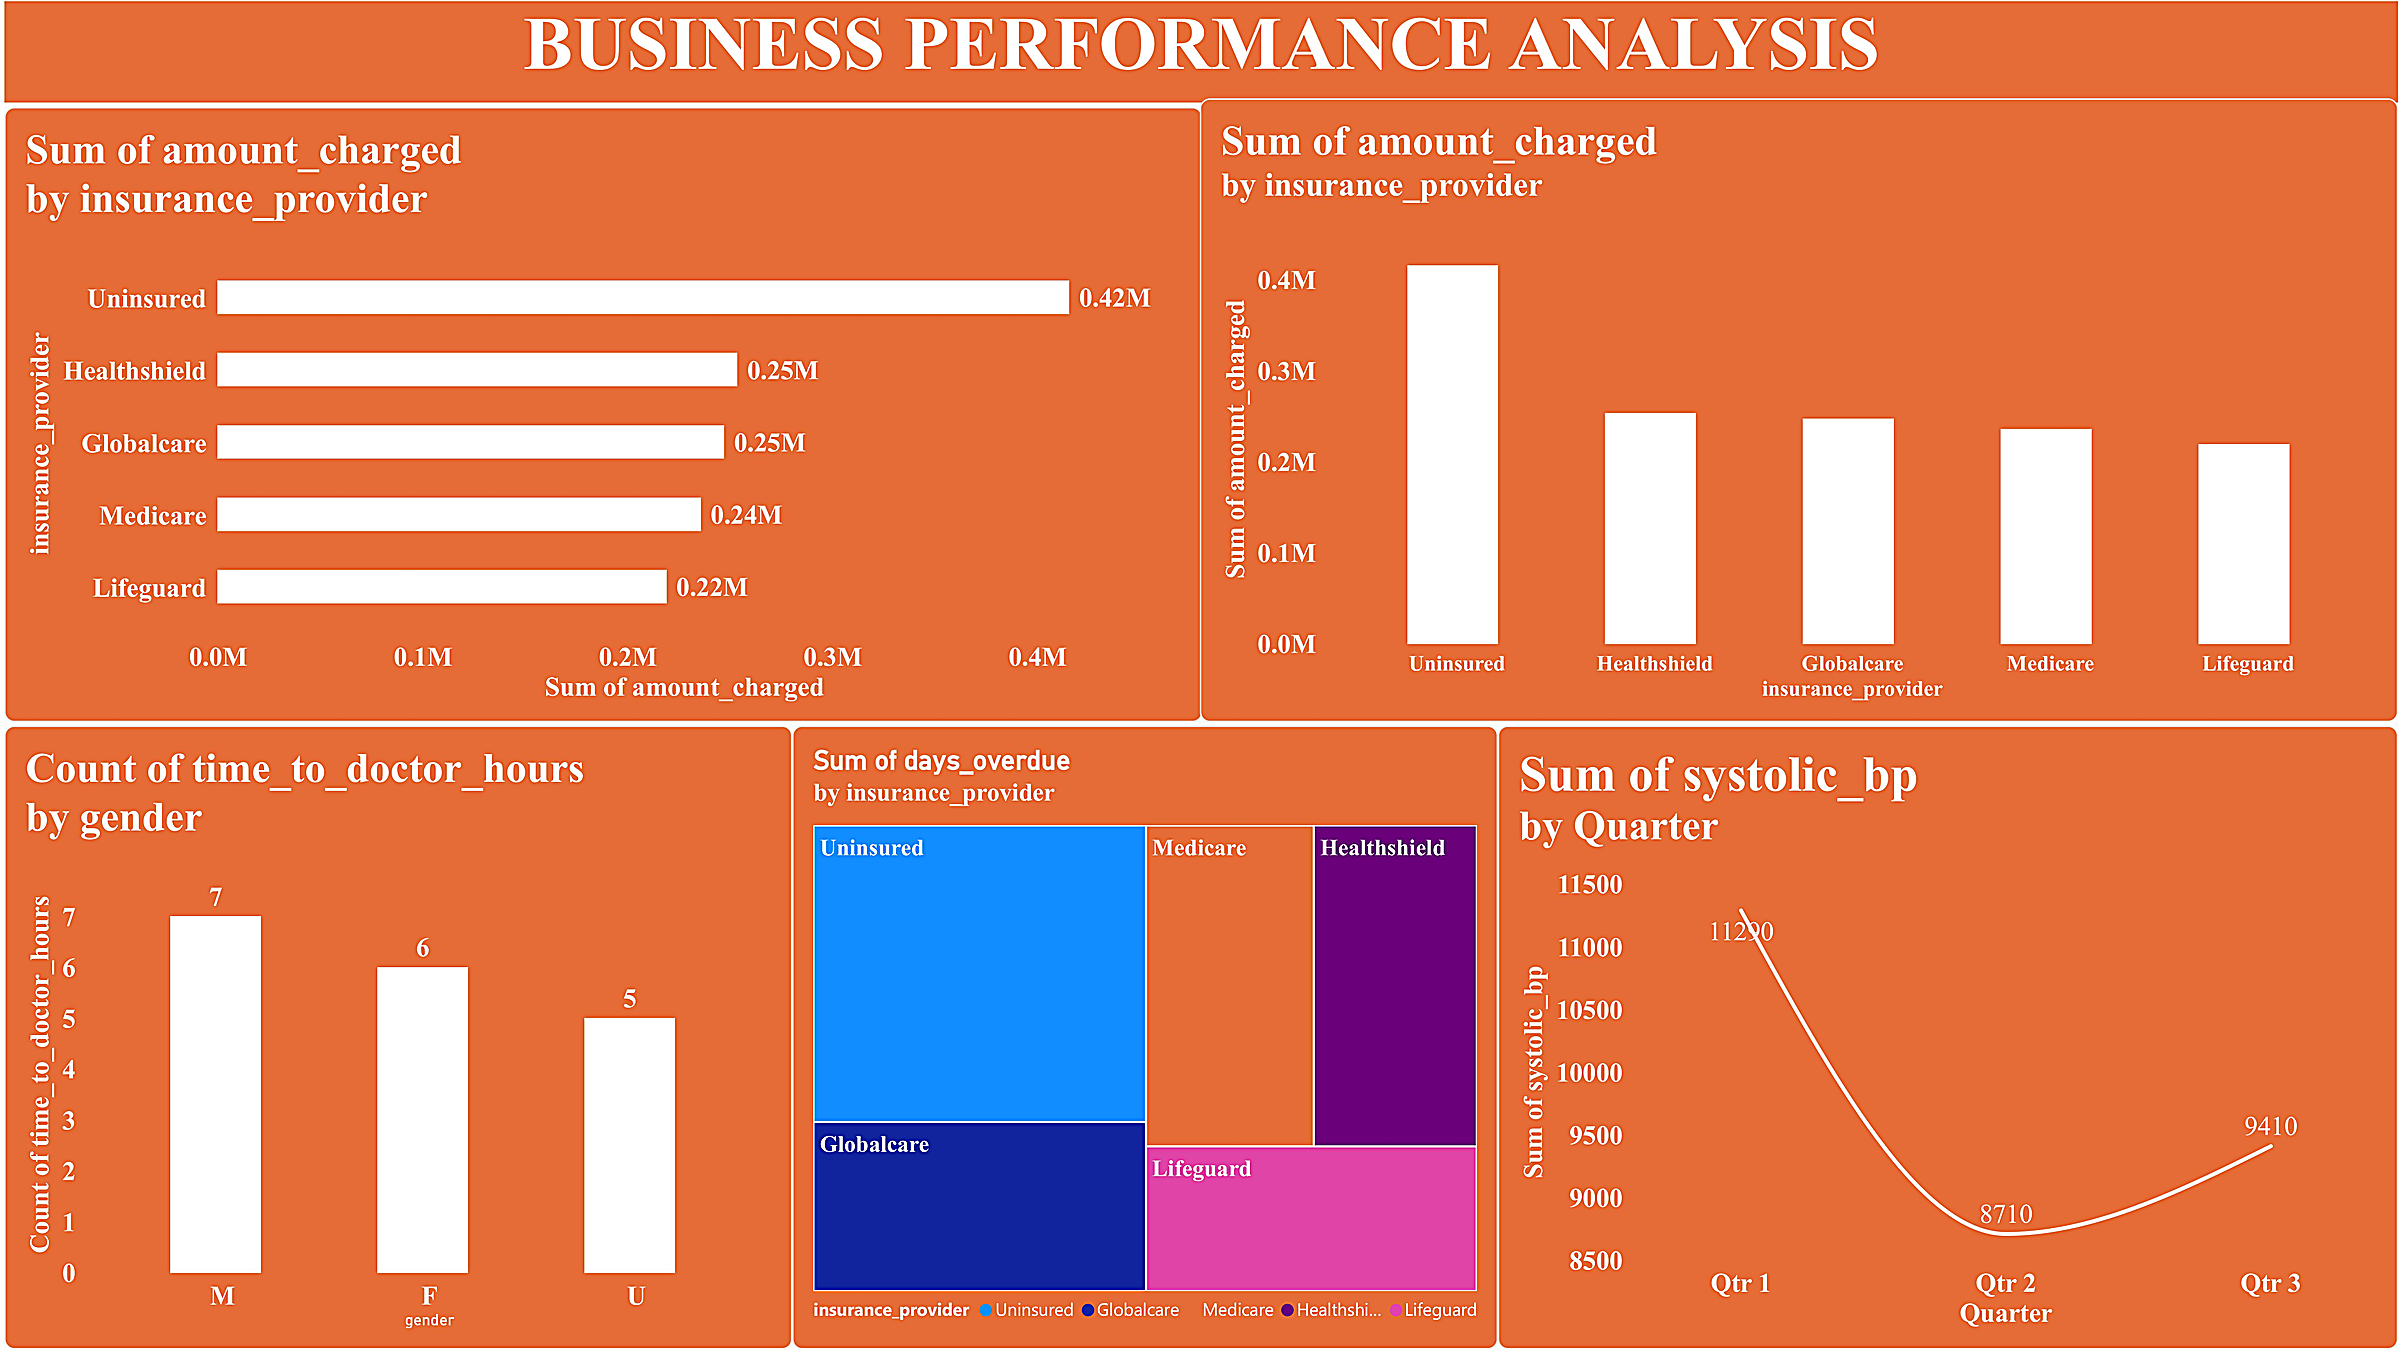

The dashboard page shown, as its layout file describes it:
{"tool":"powerbi","page":{"name":"Business Performance Analysis","canvas":[1920,1080],"ordinal":1},"visuals":[{"type":"shape","title":"BUSINESS PERFORMANCE ANALYSIS","box":[0,0,1920.1,80.5],"z":0},{"type":"clusteredBarChart","fields":{"Category":["dim_patient_registry.insurance_provider"],"Y":["Sum(fact_billing_invoices.amount_charged)"]},"box":[0,85.4,961.3,492.8],"z":1000},{"type":"clusteredColumnChart","fields":{"Category":["dim_patient_registry.gender"],"Y":["Count(fact_clinical_telemetry.time_to_doctor_hours)"]},"box":[0,580.7,631.9,500.2],"z":2000},{"type":"lineChart","fields":{"Category":["fact_clinical_telemetry.admission_timestamp.Variation.Date Hierarchy.Year","fact_clinical_telemetry.admission_timestamp.Variation.Date Hierarchy.Quarter","fact_clinical_telemetry.admission_timestamp.Variation.Date Hierarchy.Month","fact_clinical_telemetry.admission_timestamp.Variation.Date Hierarchy.Day"],"Y":["Sum(fact_clinical_telemetry.systolic_bp)"]},"box":[1197.9,580.7,722.2,500.2],"z":3000},{"type":"clusteredColumnChart","fields":{"Category":["dim_patient_registry.insurance_provider"],"Y":["Sum(fact_billing_invoices.amount_charged)"]},"box":[958.8,78.1,961.3,500.2],"z":4000},{"type":"treemap","fields":{"Group":["dim_patient_registry.insurance_provider"],"Values":["Sum(fact_billing_invoices.days_overdue)"]},"box":[631.9,580.7,566,500.2],"z":5000}]}

Visuals, with their boxes in screenshot pixels (x1, y1, x2, y2), scaled from the page's 1920x1080 canvas onto the 2400x1350 screenshot:
"BUSINESS PERFORMANCE ANALYSIS" shape: <region>0, 0, 2399, 101</region>
clusteredBarChart - dim_patient_registry.insurance_provider x Sum(fact_billing_invoices.amount_charged): <region>0, 107, 1202, 723</region>
clusteredColumnChart - dim_patient_registry.gender x Count(fact_clinical_telemetry.time_to_doctor_hours): <region>0, 726, 790, 1349</region>
lineChart - fact_clinical_telemetry.admission_timestamp.Variation.Date Hierarchy.Year x fact_clinical_telemetry.admission_timestamp.Variation.Date Hierarchy.Quarter: <region>1497, 726, 2399, 1349</region>
clusteredColumnChart - dim_patient_registry.insurance_provider x Sum(fact_billing_invoices.amount_charged): <region>1198, 98, 2399, 723</region>
treemap - dim_patient_registry.insurance_provider x Sum(fact_billing_invoices.days_overdue): <region>790, 726, 1497, 1349</region>
